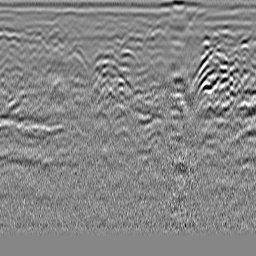cavity: (118, 47, 135, 65)
